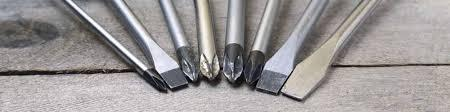screwdriver: (280, 52, 336, 102), (255, 53, 295, 96), (151, 46, 189, 91), (221, 38, 245, 85), (242, 48, 269, 87), (197, 39, 220, 82), (178, 37, 199, 83), (139, 68, 169, 93)
